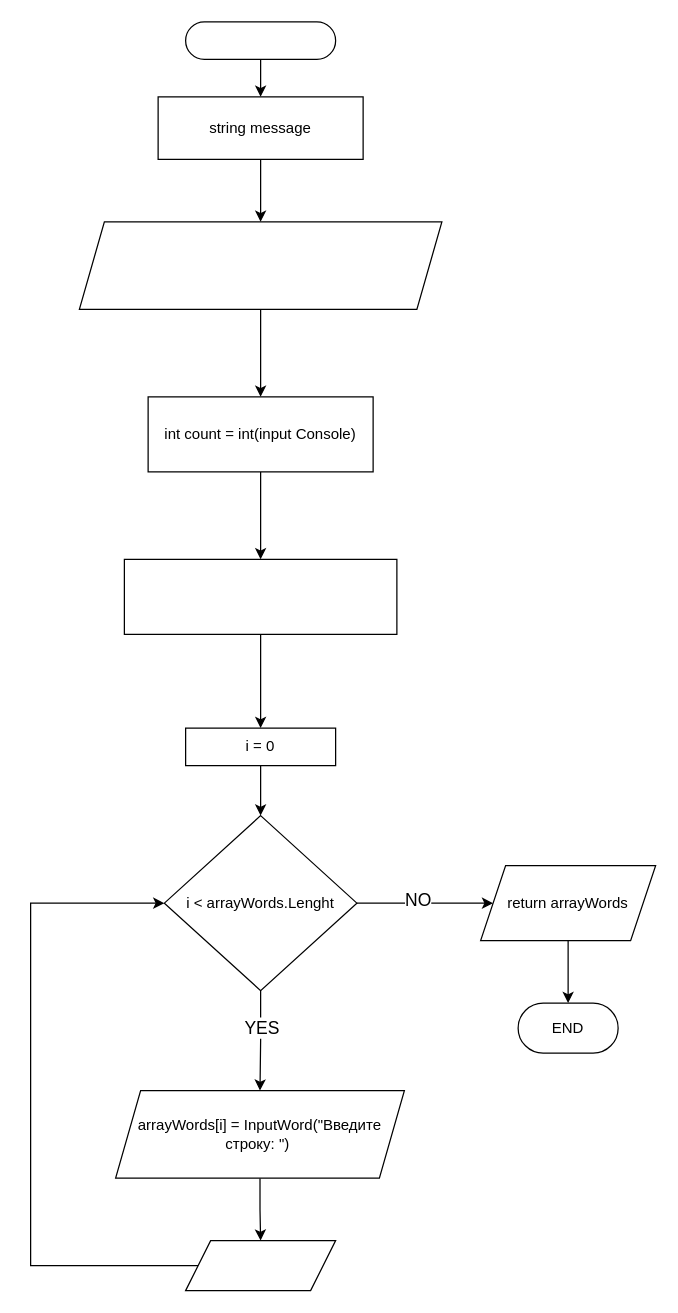
Some shapes in this 678 by 1313 pixel diagram are drawn without their labels. The shapes that lost their labels are listed below. From the top down, each one's centre as x and y in pixels, then its label:
pixel 260 40: Begin
pixel 260 265: string message ("Введите количество строк: ")
pixel 260 596: string[] arrayWords = new string [count]
pixel 260 1265: i++
